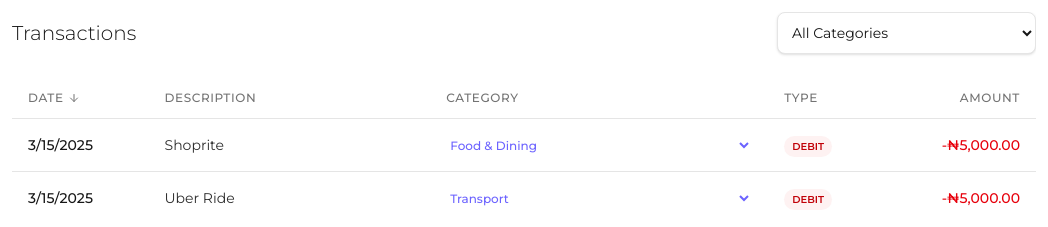
Scenario: TransactionTable › filtering by category › filters visible rows when a specific category is chosen
Select "Transport" in the dropdown in the row of "Transactions" at (906, 33), box x1=777 y1=12 x2=1036 y2=54
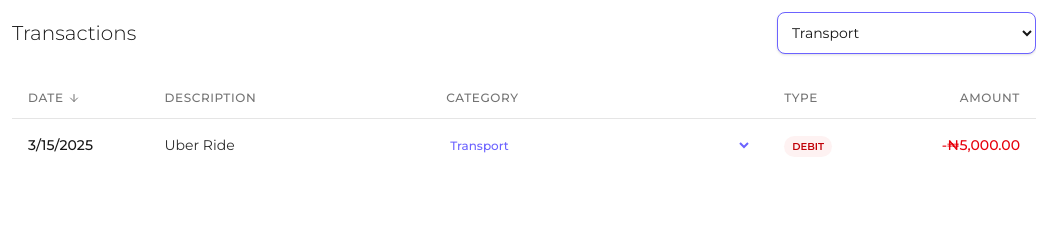
Expected: the text "Uber Ride" is shown, x1=148 y1=118 x2=430 y2=171
Expected: the text "Shoprite" is gone
